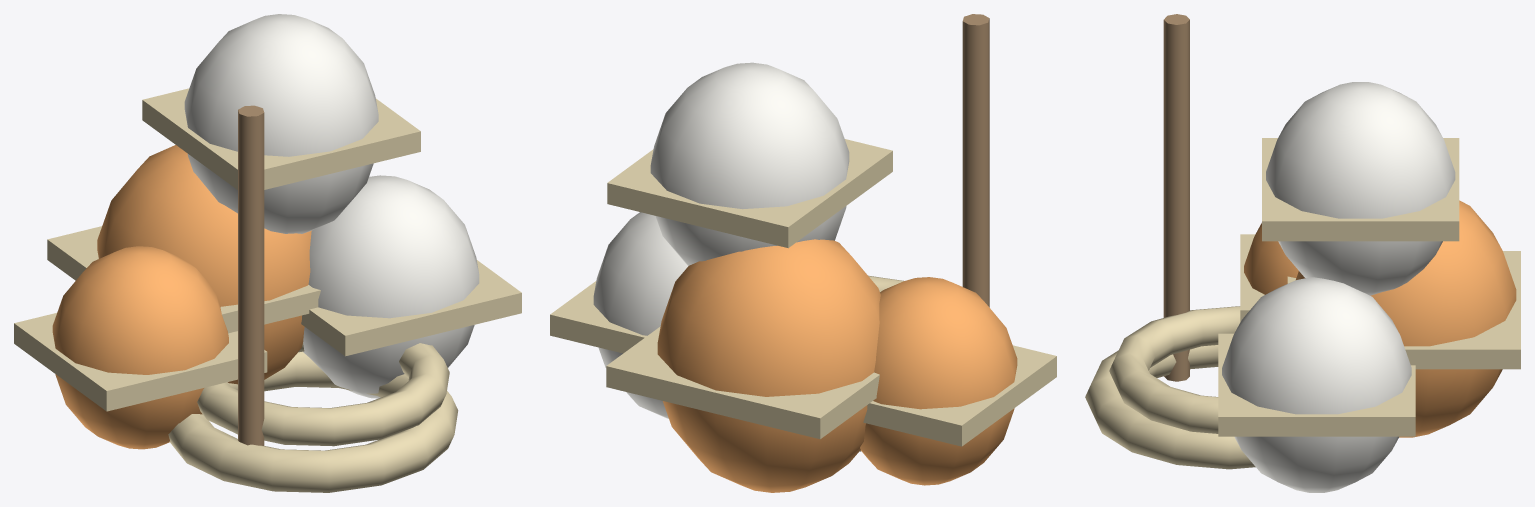
The model's file is Kerb_Buoys.fbx.
3 views of the same model, side by side, from view 1: azimuth 30°, elevation 25°; view 2: azimuth 150°, elevation 25°; view 3: azimuth 270°, elevation 25° (orthographic). The views are drawn at different scales.
Parts seen in each view (by area): view 1: Kerb_Buoys; view 2: Kerb_Buoys; view 3: Kerb_Buoys.
Part boxes in pixels (x1,y1,x2,y2): Kerb_Buoys: (14, 14, 521, 492); Kerb_Buoys: (550, 14, 1056, 492); Kerb_Buoys: (1085, 14, 1520, 492).
Size of the model in its own units: 1.03 by 0.939 by 0.9965.
